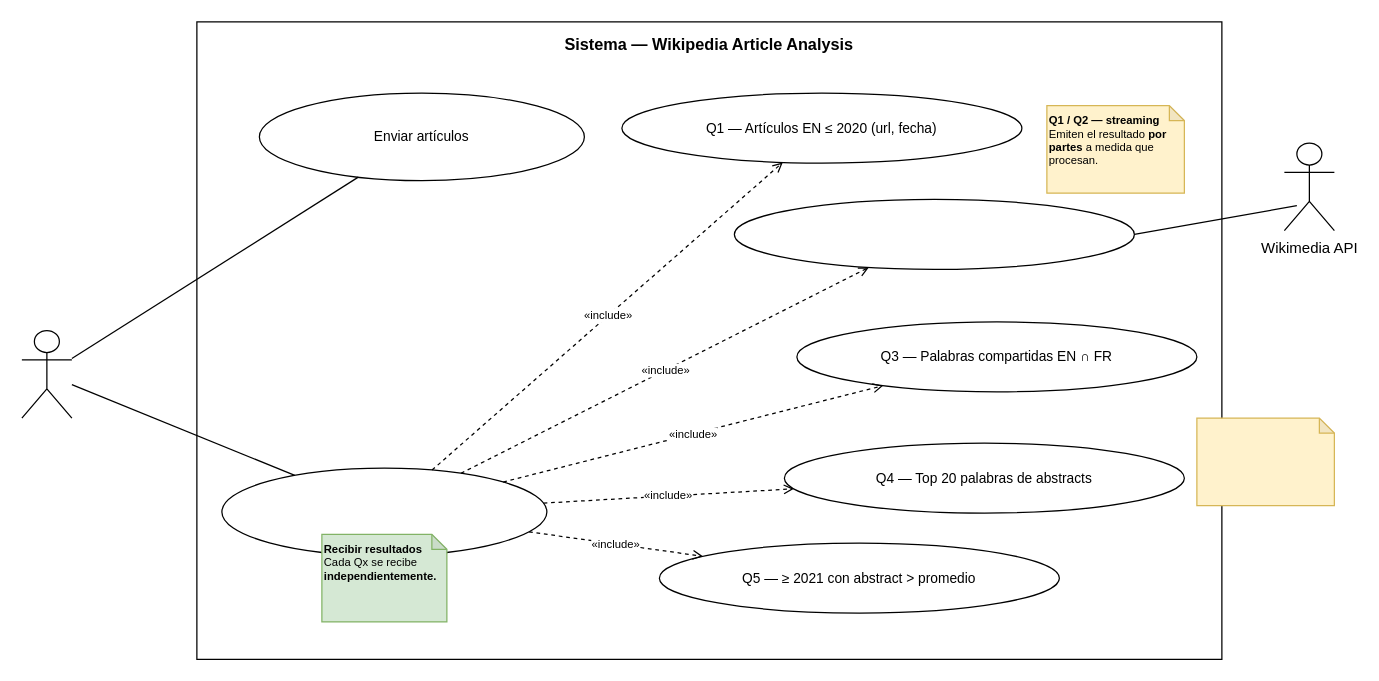
Some shapes in this 1379 by 681 pixel diagram are drawn without their labels. The centre of each missing label's shape, as x and y in pixels:
Cliente: (x=46, y=373)
Q2 — Biografías ≤ 2020 (nombre, url, imagen): (x=933, y=233)
Q3 / Q4 / Q5 — final único Emiten un solo resultado final: (x=1265, y=461)
Recibir resultados: (x=384, y=511)
